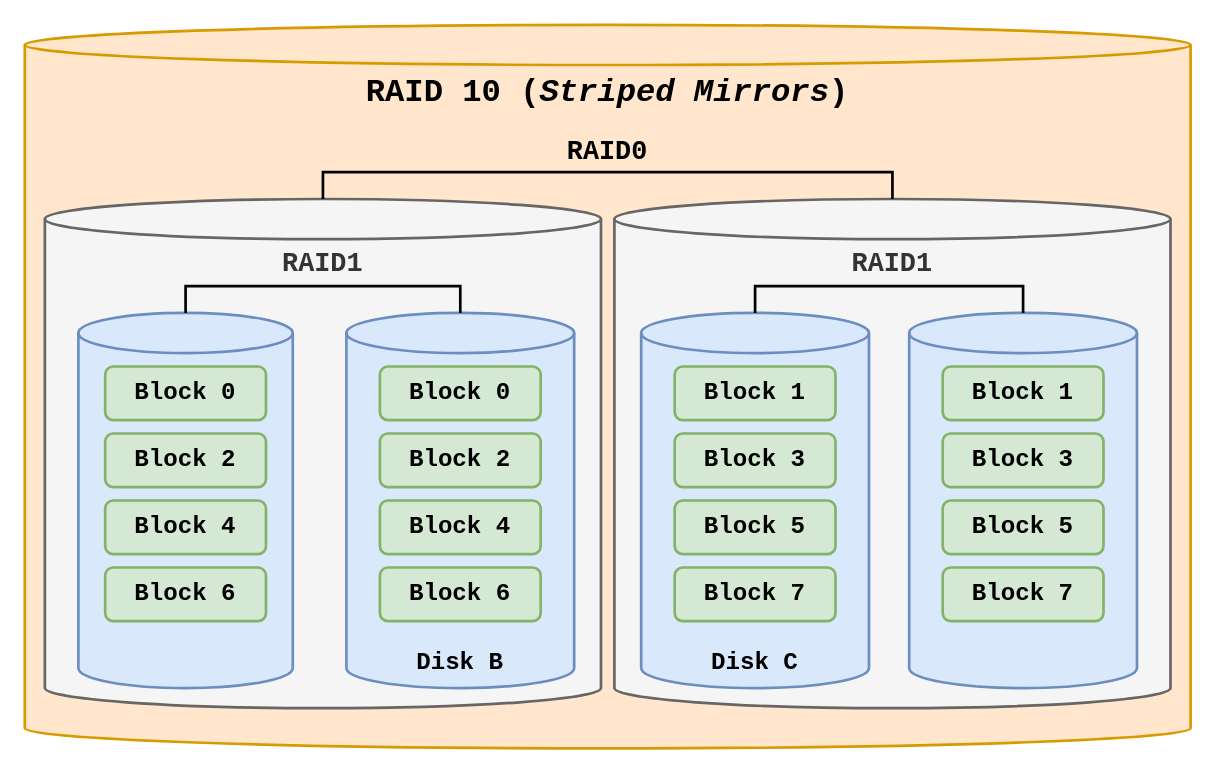
This 1214x772 diagram has some shape labels left out. Here are the shapes that lost their labels. From the top down, the box of each, then its label:
(76, 311, 293, 689): Disk A
(907, 311, 1138, 689): Disk D
